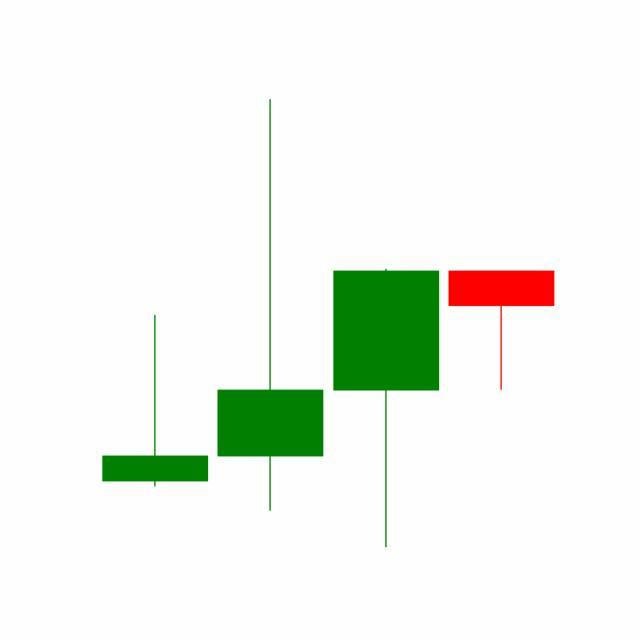Dragonfly Doji: (444, 270, 560, 392)
